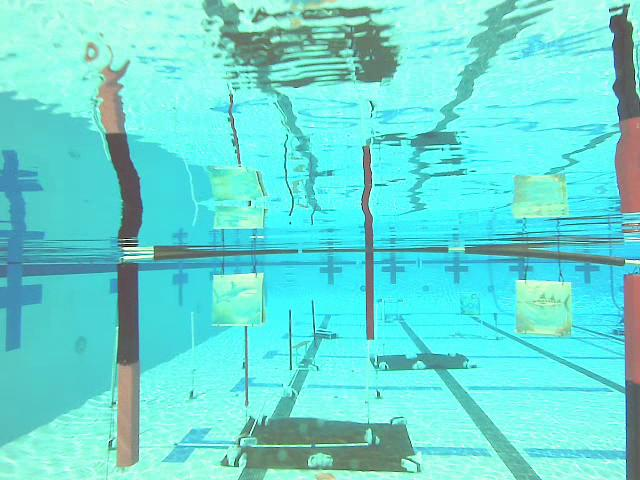black_poster: (242, 326, 251, 405), (287, 310, 295, 371), (310, 301, 318, 347)
divider: (365, 250, 374, 341)
left_gate_poster: (117, 265, 138, 467)
right_gate_poster: (623, 275, 640, 480)
shark: (210, 275, 263, 326)
swordfish: (516, 280, 572, 338)
white_poster: (108, 327, 118, 406), (189, 312, 196, 373)
